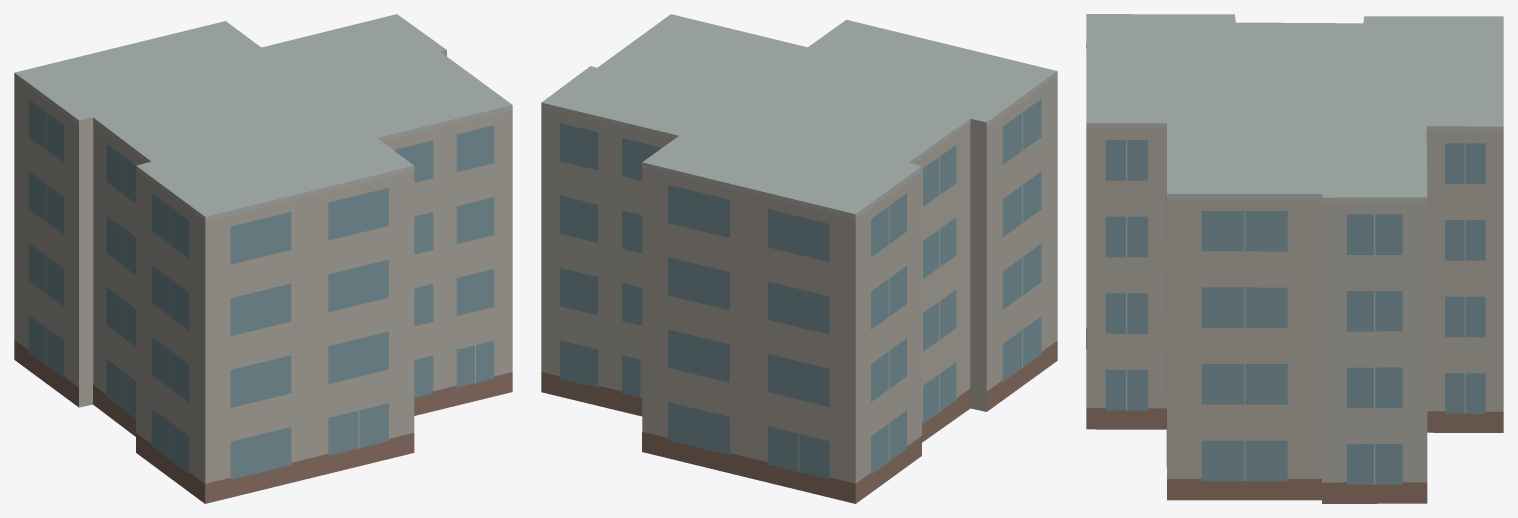
Rendered from survey-upis-32815094.glb.
3 renders of one model, left to right at view 1: azimuth 30°, elevation 25°; view 2: azimuth 150°, elevation 25°; view 3: azimuth 270°, elevation 25°, orthographic. The views are drawn at different scales.
Parts seen in each view (by area): view 1: survey-upis-32815094.tmp; view 2: survey-upis-32815094.tmp; view 3: survey-upis-32815094.tmp.
Boxes of the visible parts, x1=… form: survey-upis-32815094.tmp: x1=14, y1=14, x2=512, y2=503; survey-upis-32815094.tmp: x1=541, y1=14, x2=1057, y2=503; survey-upis-32815094.tmp: x1=1086, y1=14, x2=1503, y2=503.
Bounding box in the file's own units: 18.12 × 14.1 × 17.43.
